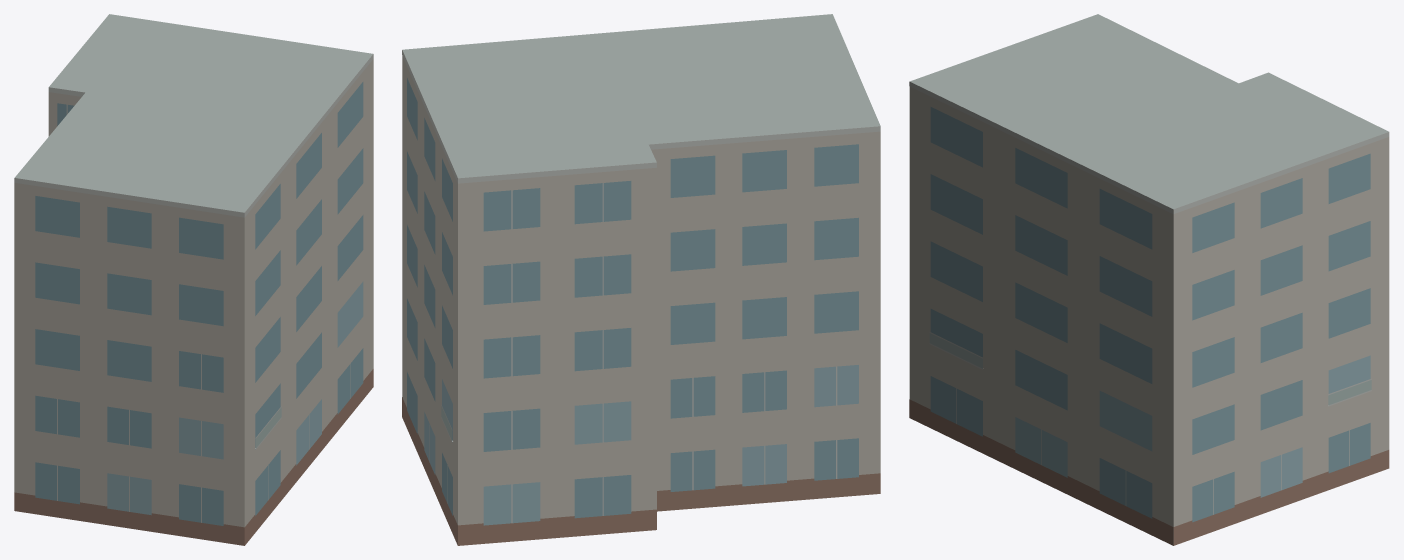
Rendered from survey-upis-32636743.glb.
The picture shows the model from 3 angles, left to right: view 1: azimuth 30°, elevation 25°; view 2: azimuth 150°, elevation 25°; view 3: azimuth 270°, elevation 25°; orthographic projection. The views are drawn at different scales.
Visible parts, largest first — view 1: survey-upis-32636743.tmp; view 2: survey-upis-32636743.tmp; view 3: survey-upis-32636743.tmp.
Part boxes in pixels (x1,y1,x2,y2): survey-upis-32636743.tmp: [14, 14, 373, 545]; survey-upis-32636743.tmp: [402, 14, 880, 545]; survey-upis-32636743.tmp: [909, 14, 1389, 545].
Bounding box in the file's own units: 20.97 × 16.83 × 21.76.
